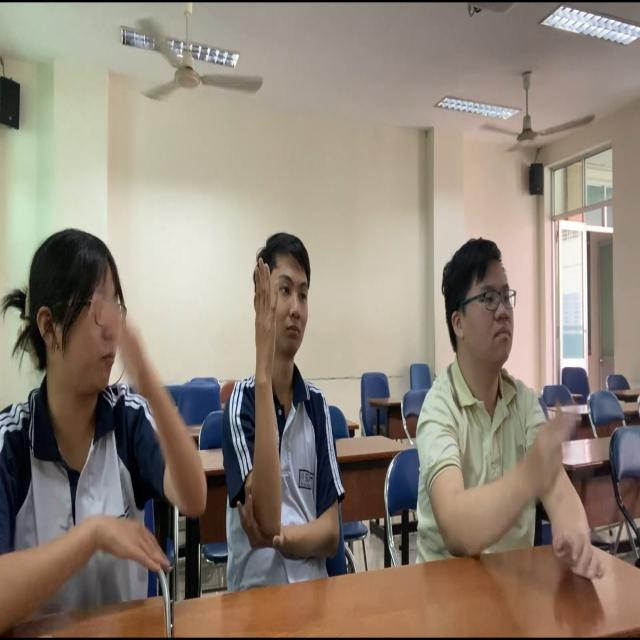raise_hand: (231, 228, 351, 601)
